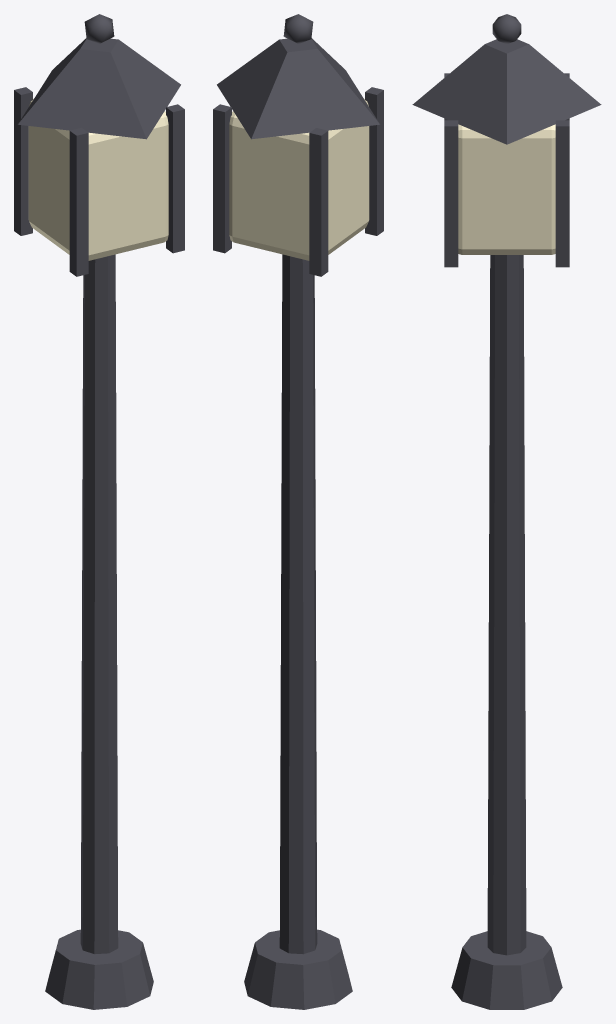
3 views of the same model, side by side, from view 1: azimuth 30°, elevation 25°; view 2: azimuth 150°, elevation 25°; view 3: azimuth 270°, elevation 25° (orthographic).
Visible parts, largest first — view 1: Deco small_lamp; view 2: Deco small_lamp; view 3: Deco small_lamp.
Boxes of the visible parts, <box> form: Deco small_lamp: <box>14,14,184,1009</box>; Deco small_lamp: <box>213,14,383,1009</box>; Deco small_lamp: <box>412,14,601,1009</box>.
Bounding box in the file's own units: 0.476 × 2.7 × 0.476.
